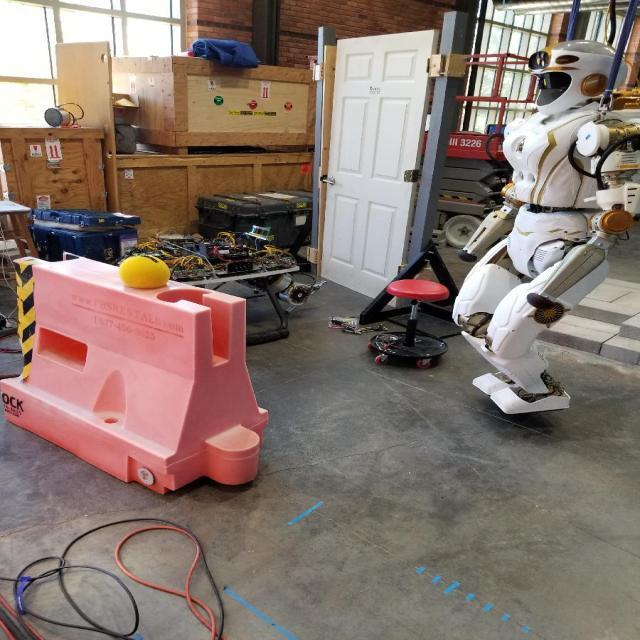door: (316, 27, 442, 310), (326, 176, 342, 183)
